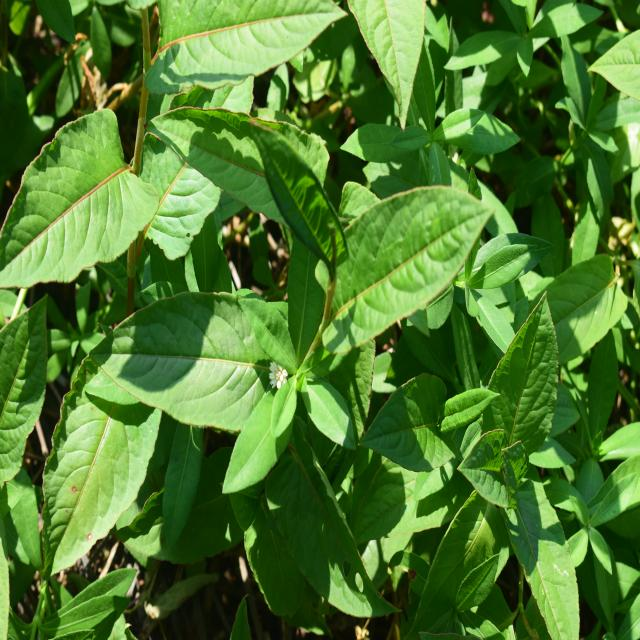Chinese_knotweed: (14, 105, 492, 419)
